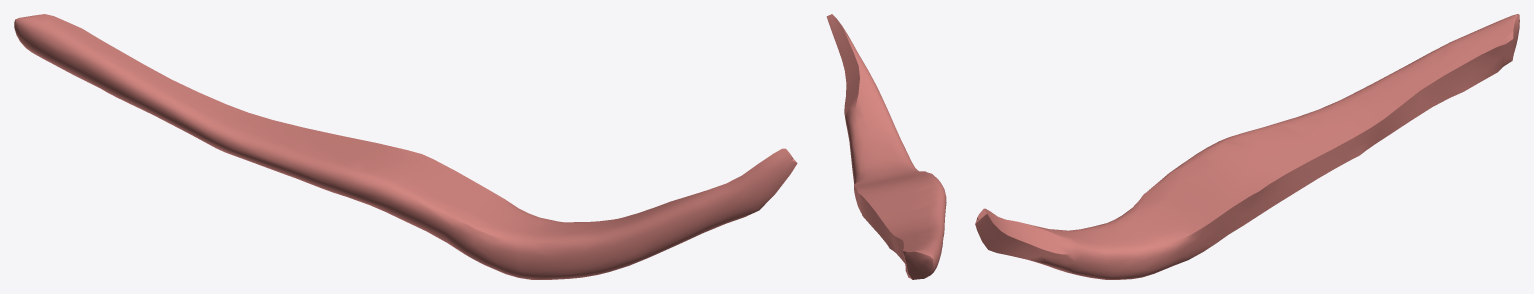
Rendered from fma37486_mm1740.glb.
3 views of the same model, side by side, from view 1: azimuth 30°, elevation 25°; view 2: azimuth 150°, elevation 25°; view 3: azimuth 270°, elevation 25° (orthographic). The views are drawn at different scales.
Visible parts, largest first — view 1: FMA37486_MM1740; view 2: FMA37486_MM1740; view 3: FMA37486_MM1740.
Boxes of the visible parts, left/top/right/bottom form: FMA37486_MM1740: left=14, top=14, right=797, bottom=279; FMA37486_MM1740: left=826, top=14, right=946, bottom=279; FMA37486_MM1740: left=975, top=14, right=1519, bottom=279.
Size of the model in its own units: 0.0451 by 0.0147 by 0.0541.
